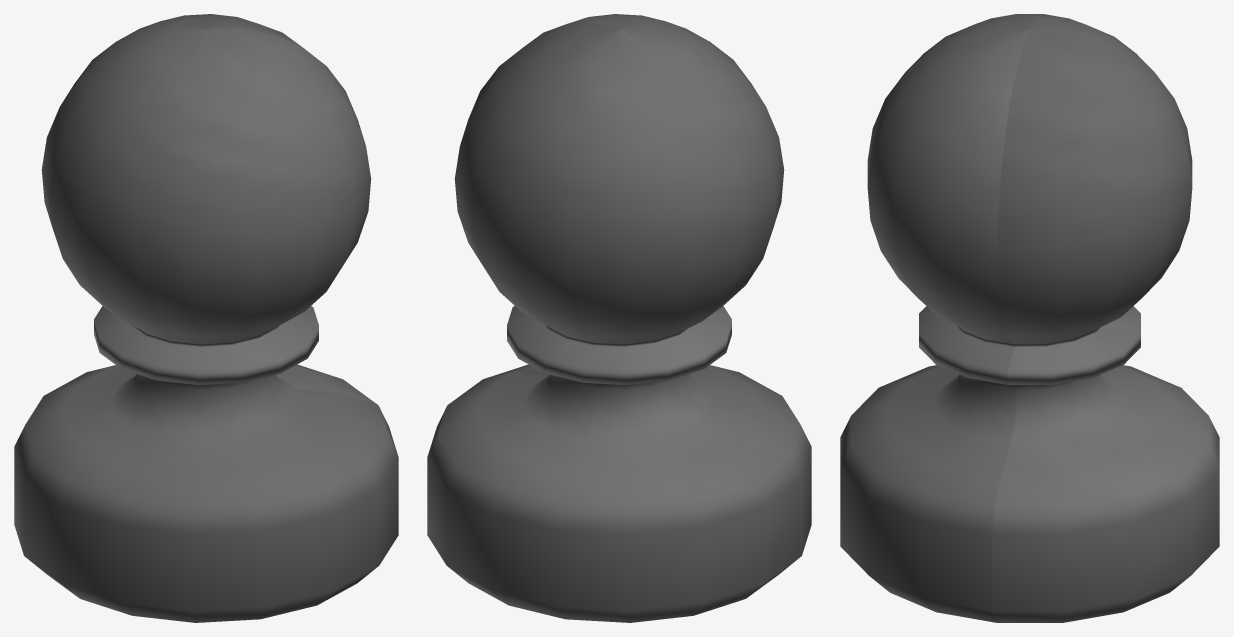
File: polefinial_ball_small.obj
3 renders of one model, left to right at view 1: azimuth 30°, elevation 25°; view 2: azimuth 150°, elevation 25°; view 3: azimuth 270°, elevation 25°, orthographic.
Visible parts, largest first — view 1: polefinial_ball_small; view 2: polefinial_ball_small; view 3: polefinial_ball_small.
Boxes of the visible parts, x1,y1,x2,y2 form: polefinial_ball_small: [14, 14, 398, 622]; polefinial_ball_small: [427, 14, 811, 622]; polefinial_ball_small: [840, 14, 1219, 622].
Bounding box in the file's own units: 0.4291 × 0.6548 × 0.4291.
